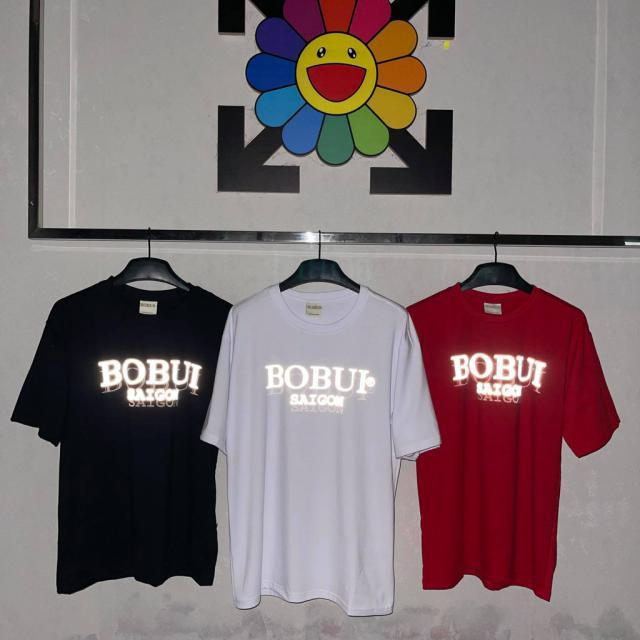Shirt: (204, 282, 440, 618), (410, 280, 626, 602), (9, 280, 228, 590)
